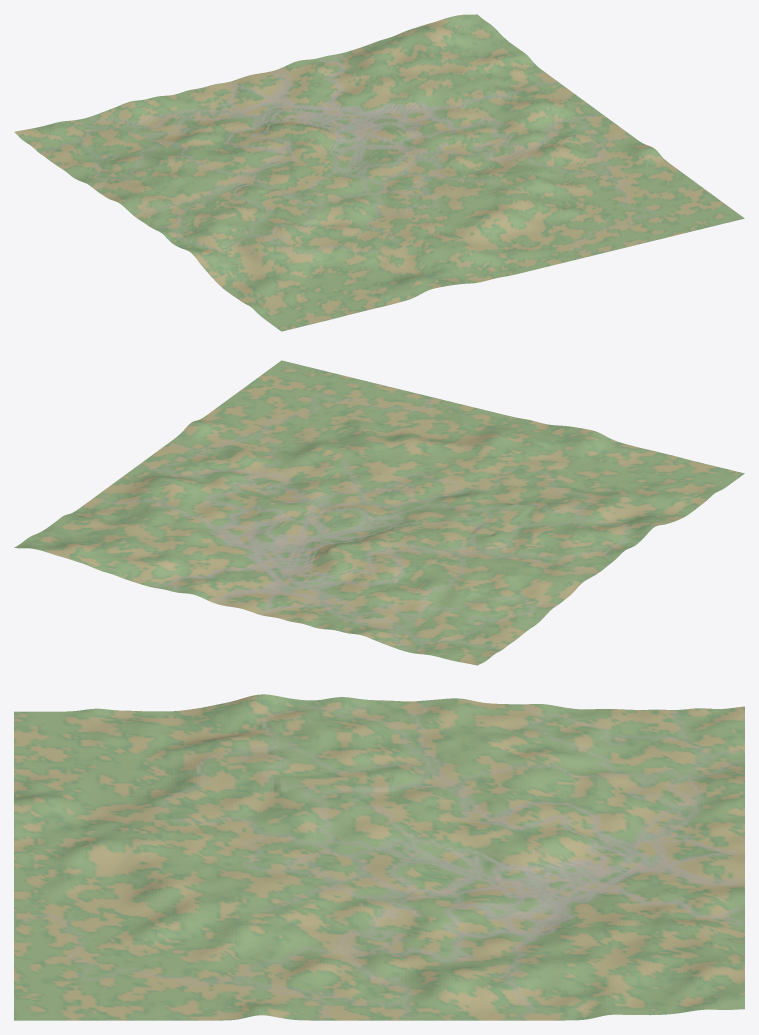
The model's file is mundo-terreno.glb.
The picture shows the model from 3 angles, top to bottom: view 1: azimuth 30°, elevation 25°; view 2: azimuth 150°, elevation 25°; view 3: azimuth 270°, elevation 25°; orthographic projection. The views are drawn at different scales.
Parts seen in each view (by area): view 1: Relevo; view 2: Relevo; view 3: Relevo.
Part boxes in pixels (left/top/right/bottom): Relevo: left=14, top=14, right=744, bottom=331; Relevo: left=14, top=360, right=744, bottom=665; Relevo: left=14, top=694, right=744, bottom=1020.
Size of the model in its own units: 6000 by 168 by 6000.
